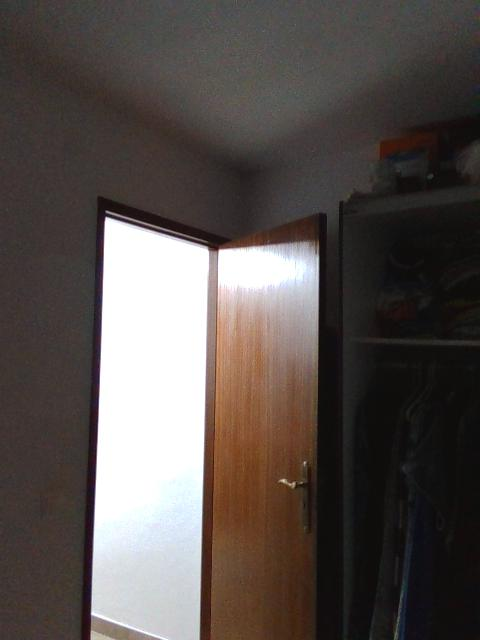open_door: (82, 190, 234, 639)
